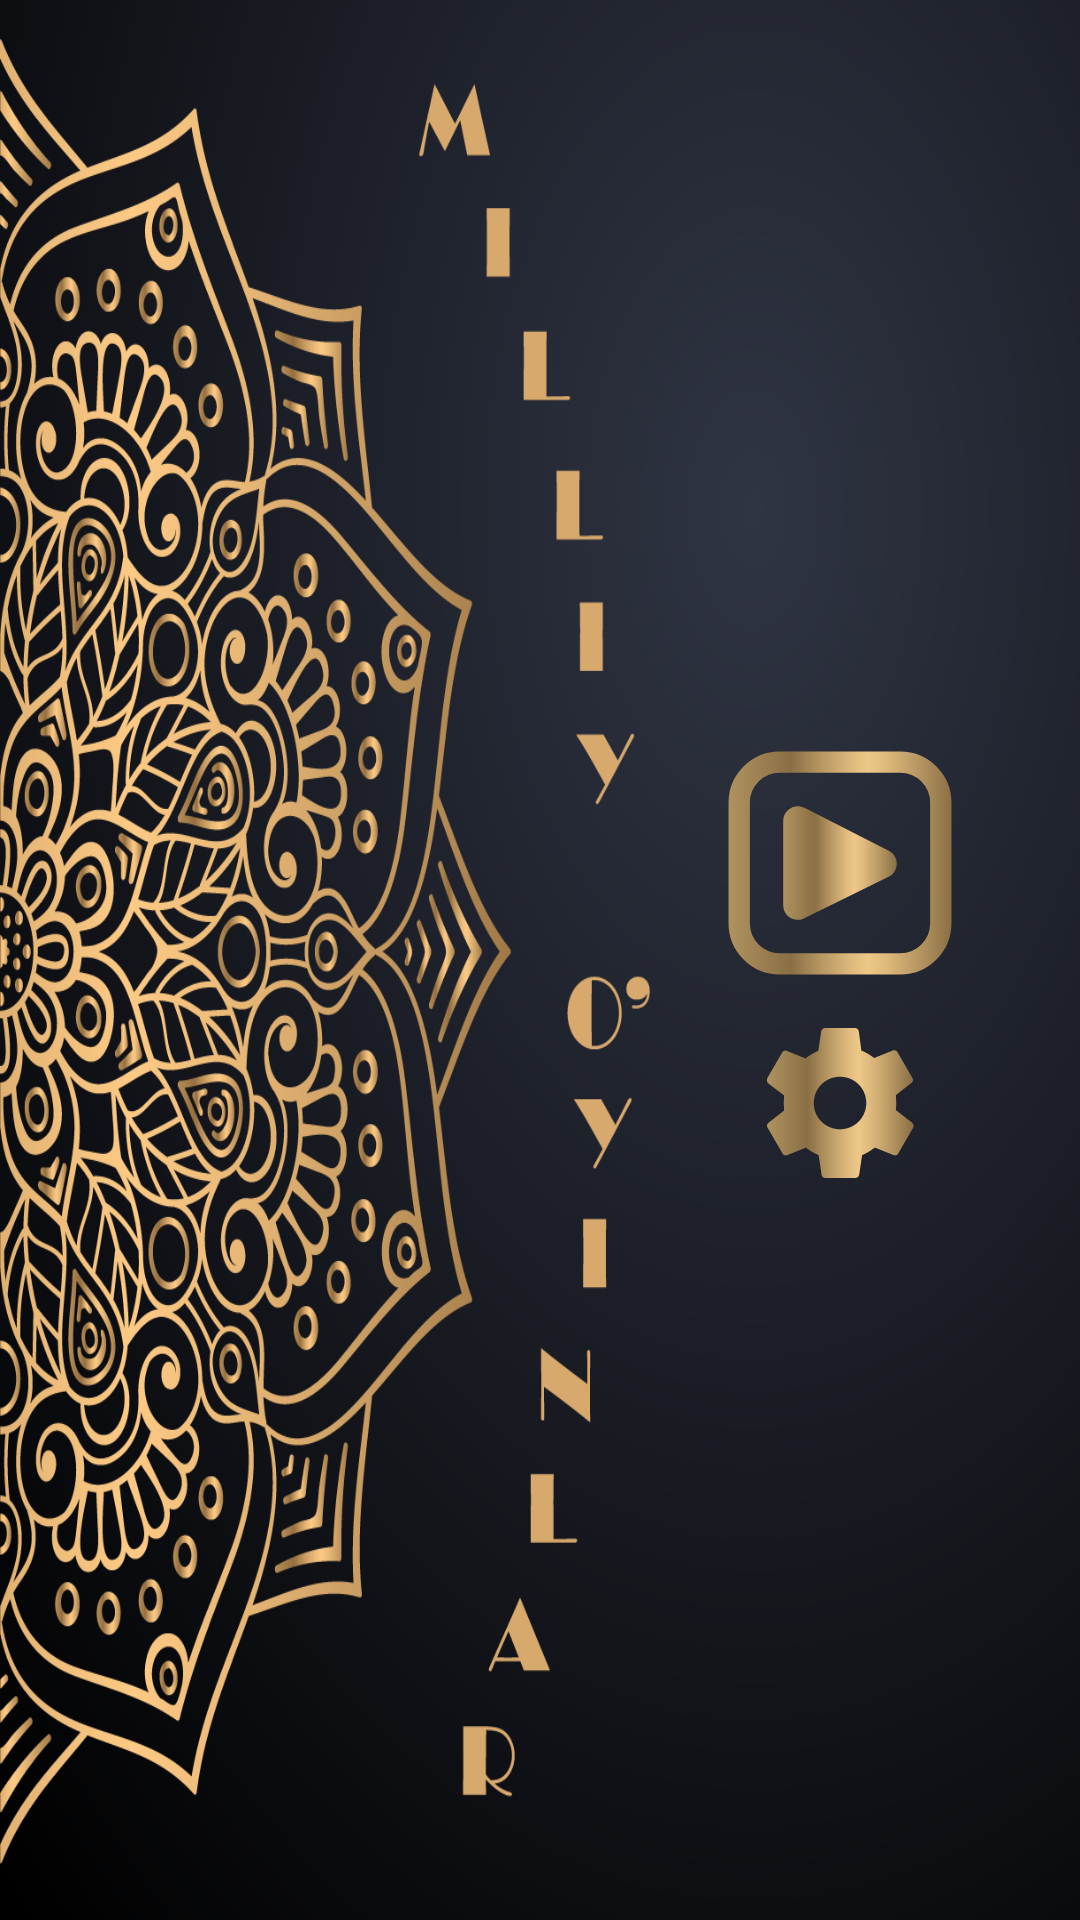

Icon click points for this 1080×1920 phone screenshot, format (x,y):
settings fon: (840,1103)
